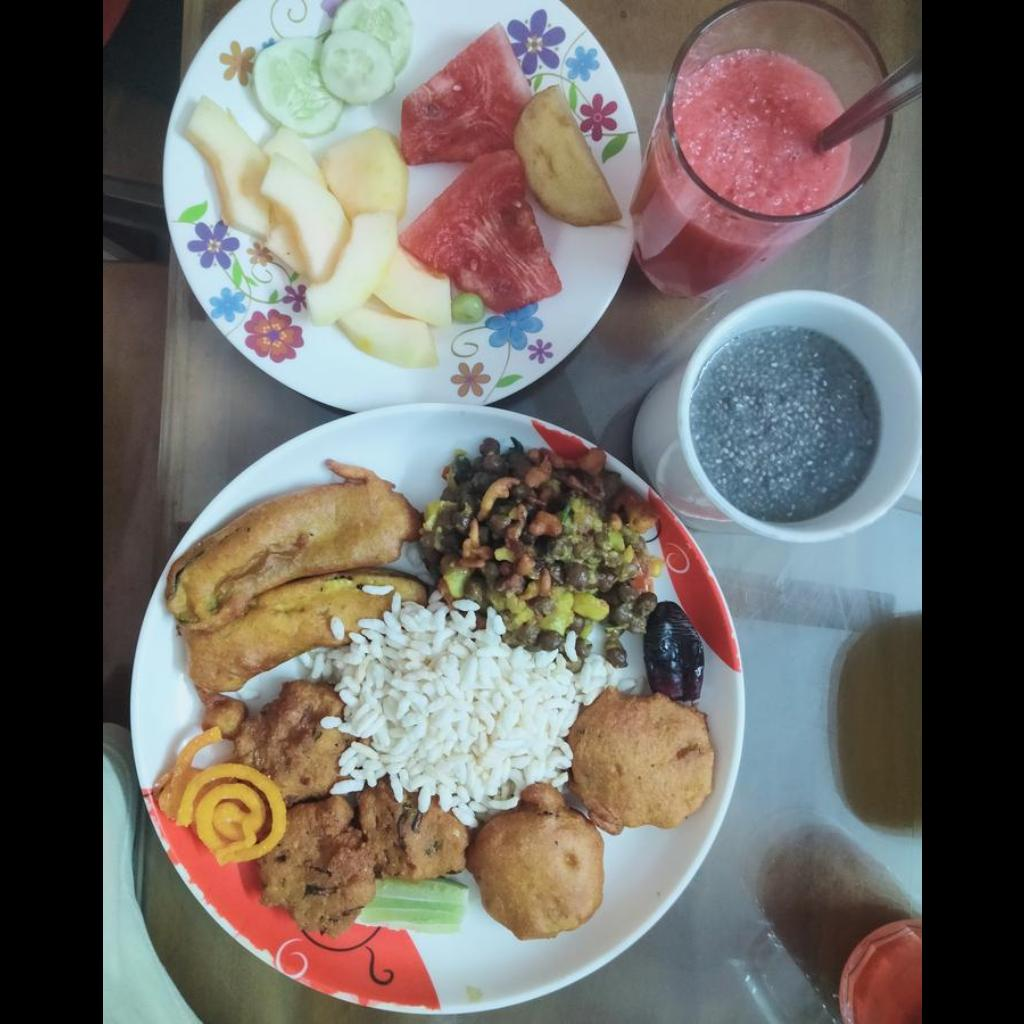apple: (513, 86, 619, 225)
beguni: (170, 458, 411, 703)
chola: (423, 441, 659, 658)
chop-alu: (476, 698, 717, 940)
cucumber: (254, 1, 408, 131)
jilapi: (164, 735, 283, 868)
juice: (691, 329, 878, 523), (674, 54, 840, 207)
peyaju: (240, 683, 457, 938)
puffed-rice: (310, 608, 625, 826)
watermelon: (182, 98, 453, 362), (402, 31, 561, 310)
